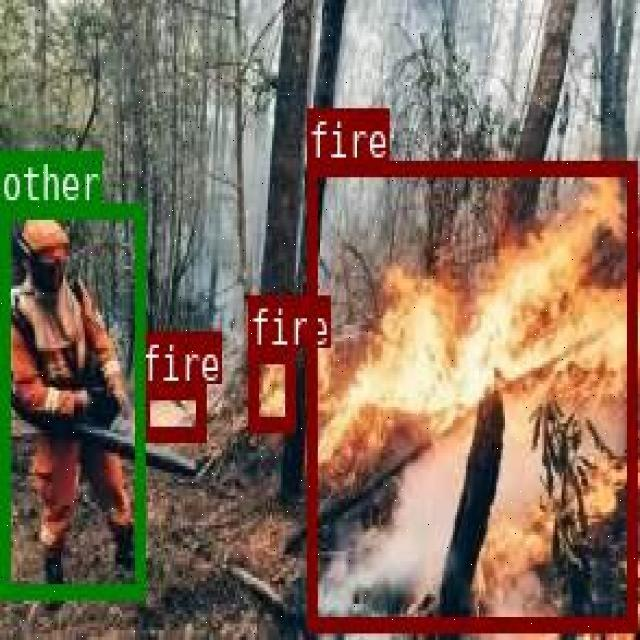fire: (306, 159, 635, 629), (246, 346, 292, 428), (138, 382, 205, 437)
